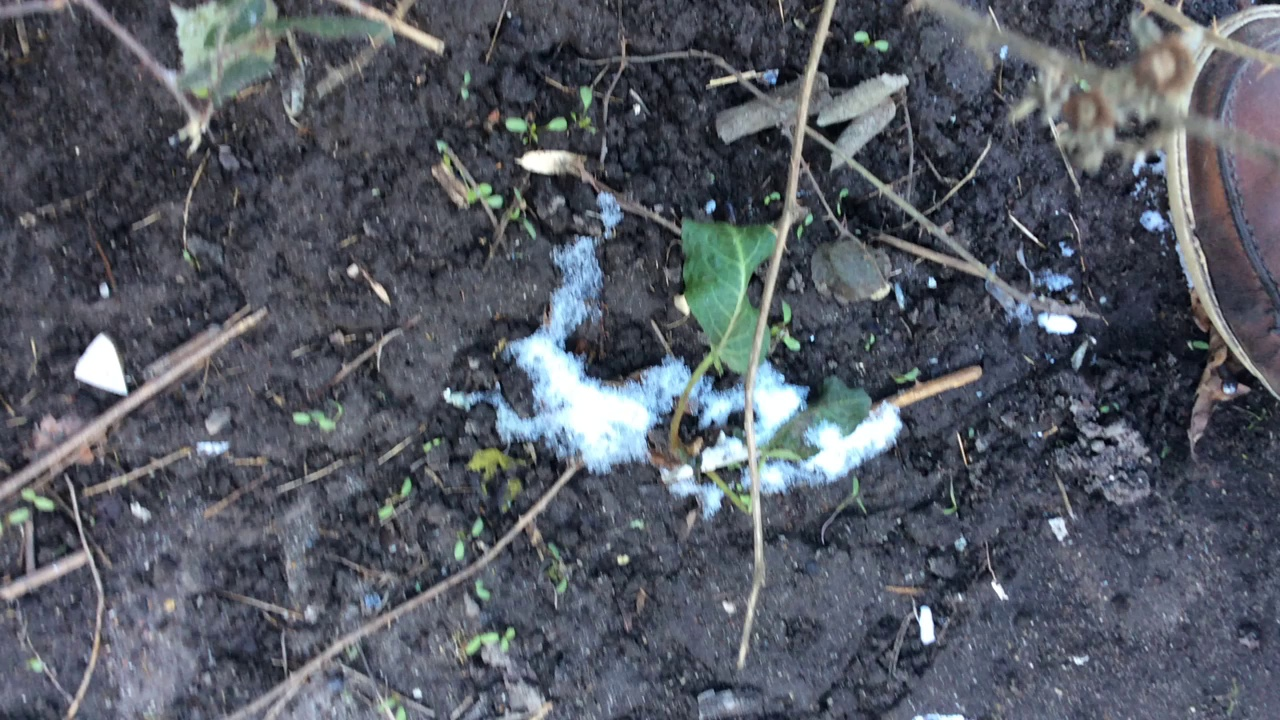root: (655, 431, 725, 484)
rumex: (653, 204, 881, 495)
